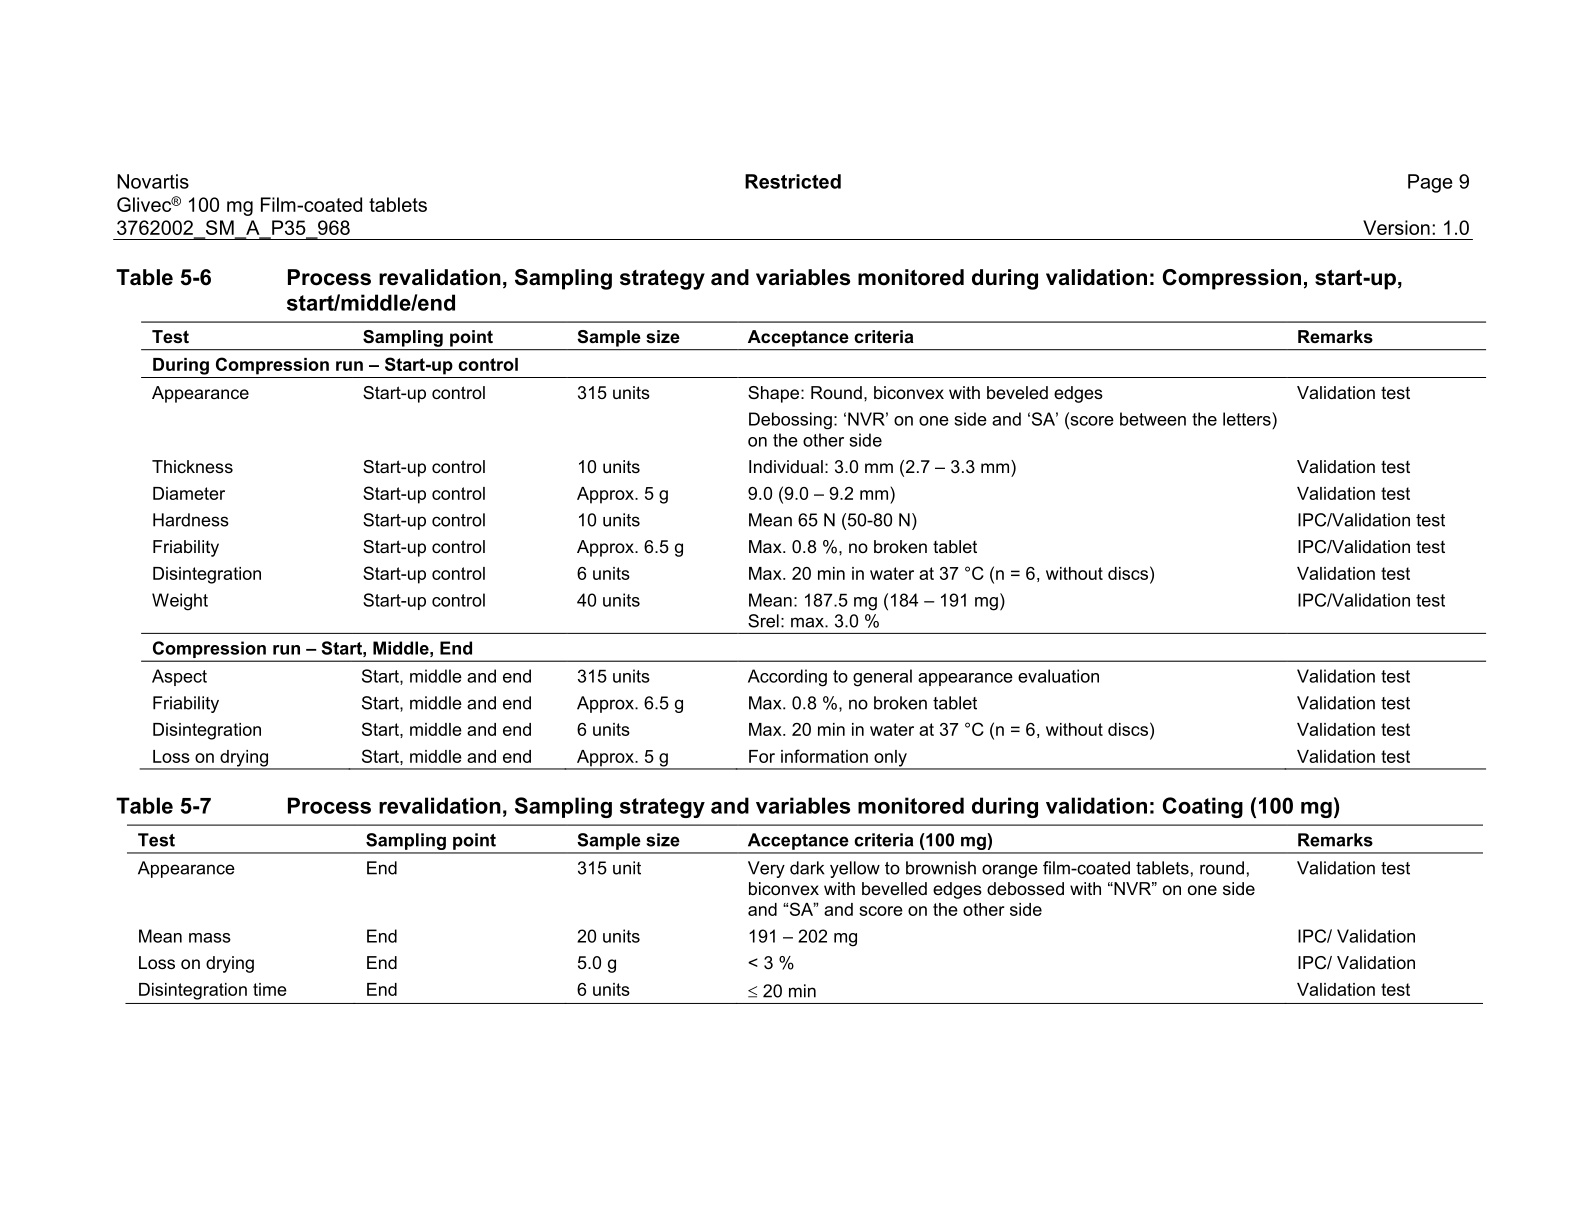partial_lined: (126, 823, 1484, 1005)
partial_lined_merged_cells: (140, 320, 1486, 770)
